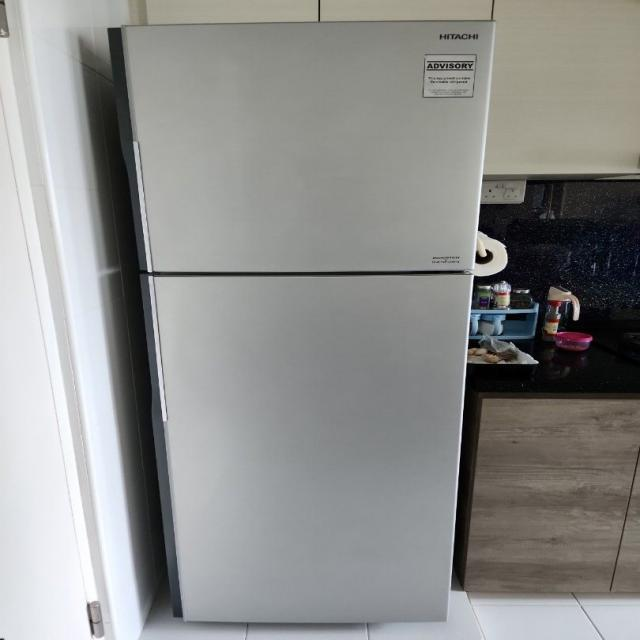refrigerator: (103, 17, 499, 629)
